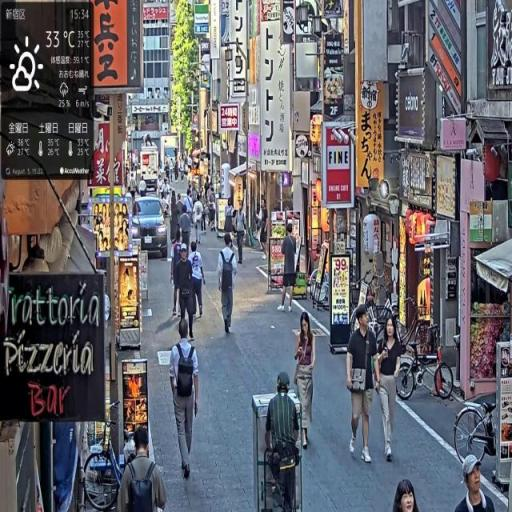person: (166, 320, 207, 481), (262, 369, 306, 512), (376, 314, 411, 464), (347, 302, 376, 468), (294, 313, 321, 455), (217, 233, 246, 337), (174, 241, 198, 343), (277, 219, 301, 314), (459, 458, 494, 512), (172, 231, 190, 321), (192, 240, 208, 319), (392, 476, 424, 512)
